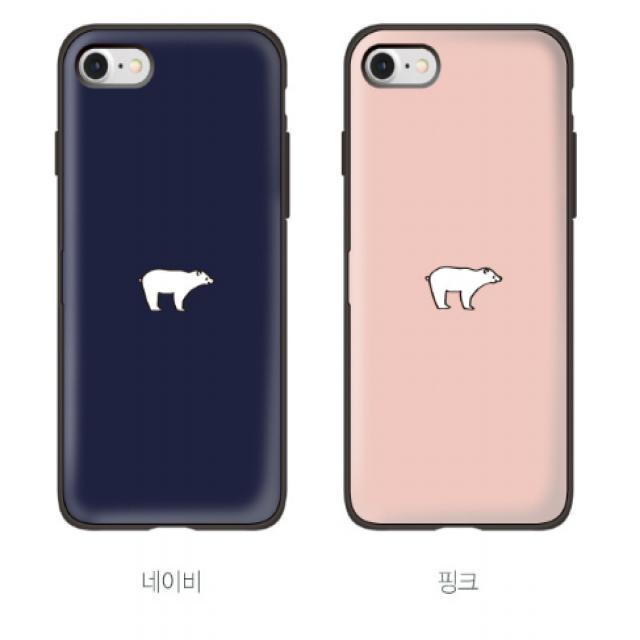phone: (340, 22, 578, 532), (54, 22, 292, 531)
